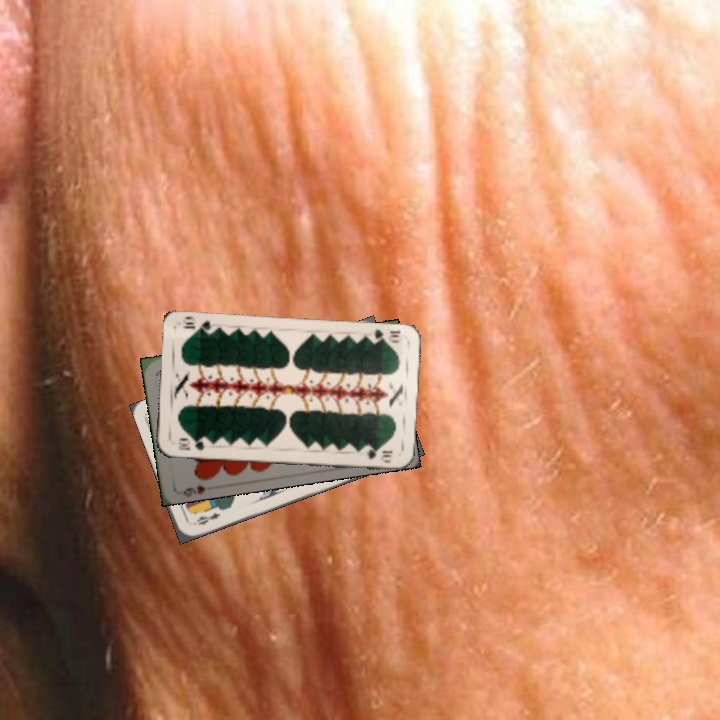EO: (192, 508, 223, 528)
G10: (365, 325, 403, 345), (174, 434, 208, 453)
H9: (179, 480, 208, 498)
